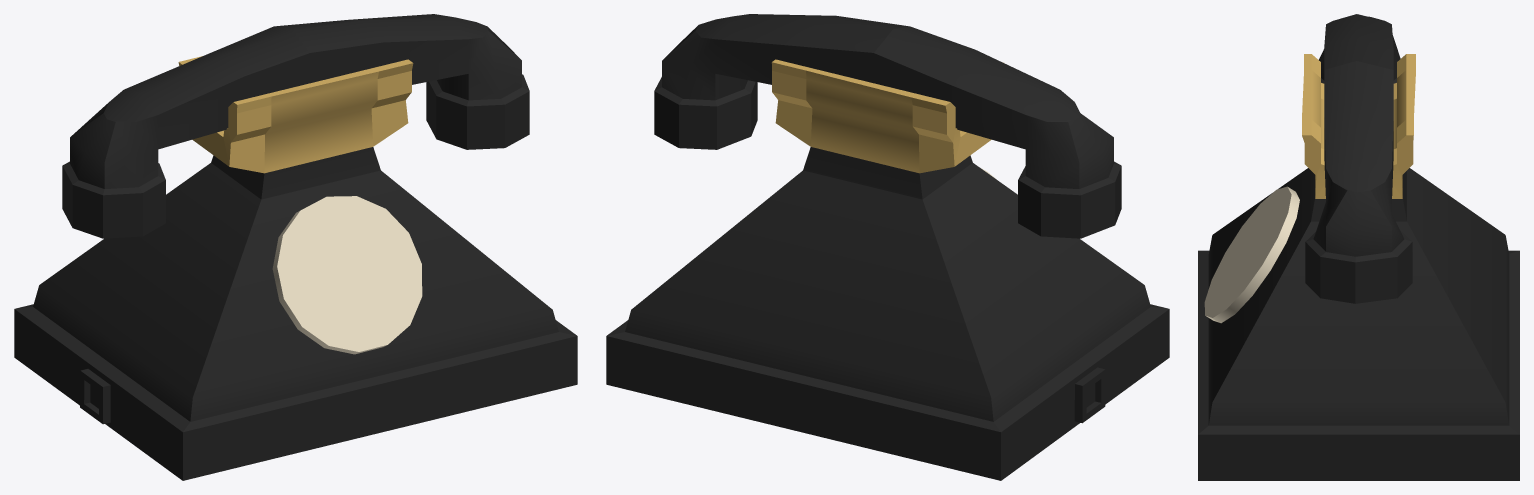
Rendered from MiscTelephoneUV.fbx.
3 views of the same model, side by side, from view 1: azimuth 30°, elevation 25°; view 2: azimuth 150°, elevation 25°; view 3: azimuth 270°, elevation 25° (orthographic). The views are drawn at different scales.
Parts seen in each view (by area): view 1: polySurface47; view 2: polySurface47; view 3: polySurface47.
Part boxes in pixels (left/top/right/bottom): polySurface47: left=14, top=14, right=577, bottom=480; polySurface47: left=606, top=14, right=1169, bottom=480; polySurface47: left=1198, top=14, right=1519, bottom=480.
Bounding box in the file's own units: 51.45 × 37.29 × 33.33.
